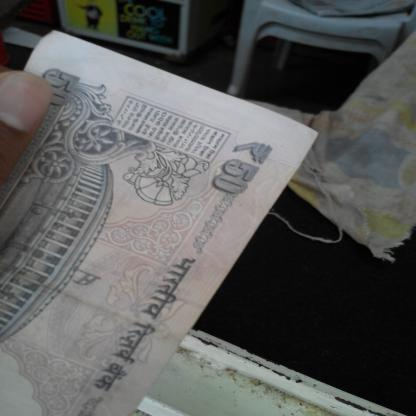Old50Back: (0, 29, 318, 416)
